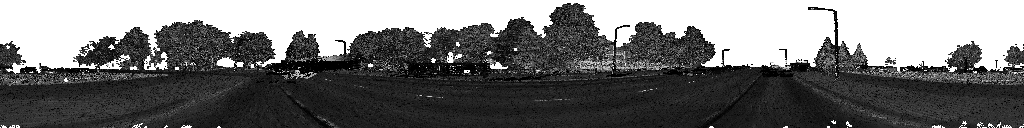light_pole: (808, 8, 838, 82), (612, 25, 631, 74), (233, 40, 251, 73), (335, 41, 345, 58), (779, 50, 787, 69), (722, 50, 729, 68)
traffic_pole: (963, 58, 967, 74)
